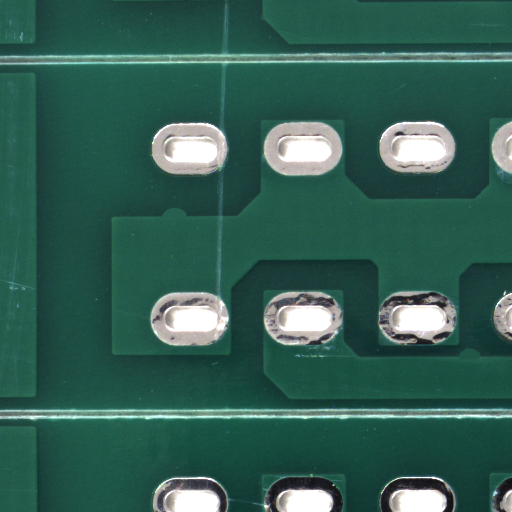Spur: (175, 212, 203, 223), (469, 352, 493, 363)
